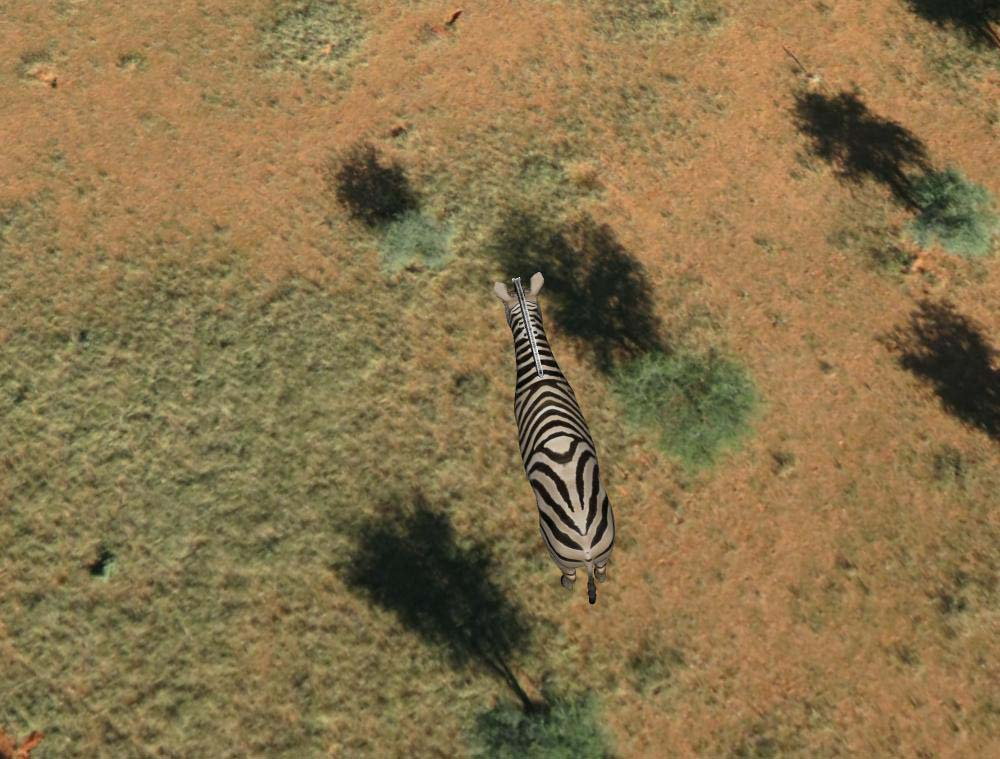zebra: (486, 270, 626, 602)
